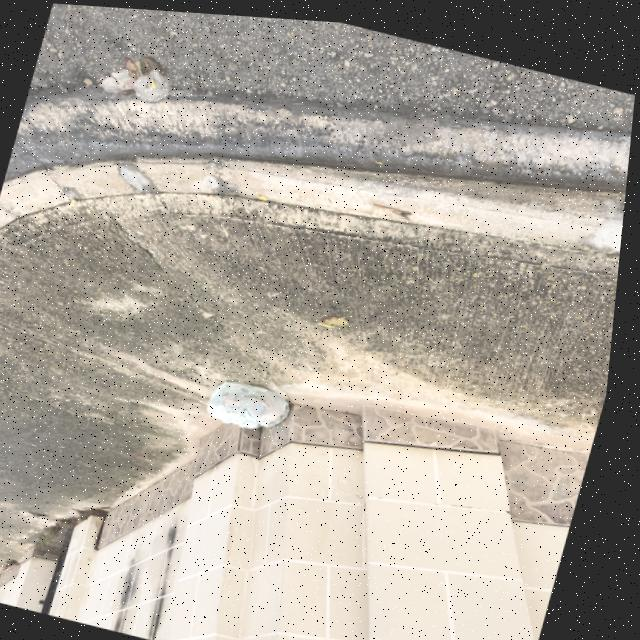Organic Waste -White Bag-: (211, 372, 302, 433)
